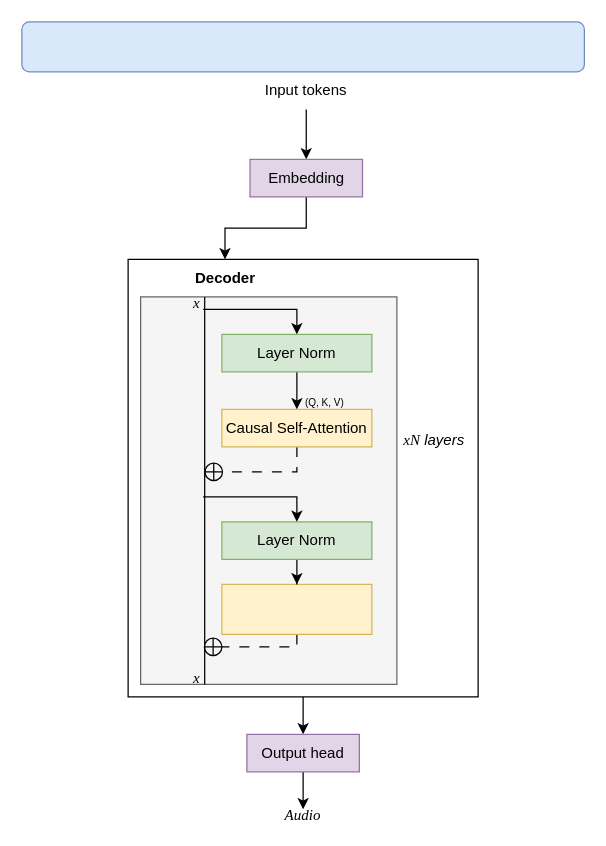
The diagram is 606 pixels wide and 846 high, and some of its shapes have lost their labels. Each missing label, with the box of its shape:
<text_bos>A, B, C..<text_eos><audio_bos>audio_1, audio_2 ..<audio_eos>: (21, 21, 584, 72)
Position-wise Feed Forward: (221, 583, 372, 634)
